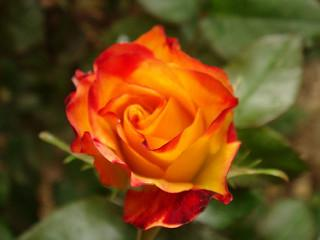Rose: (58, 25, 251, 236)
